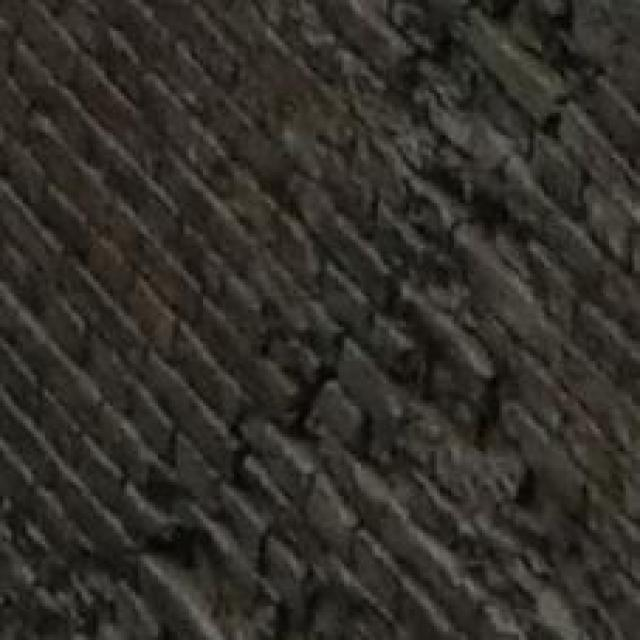Crack: (114, 0, 638, 640)
